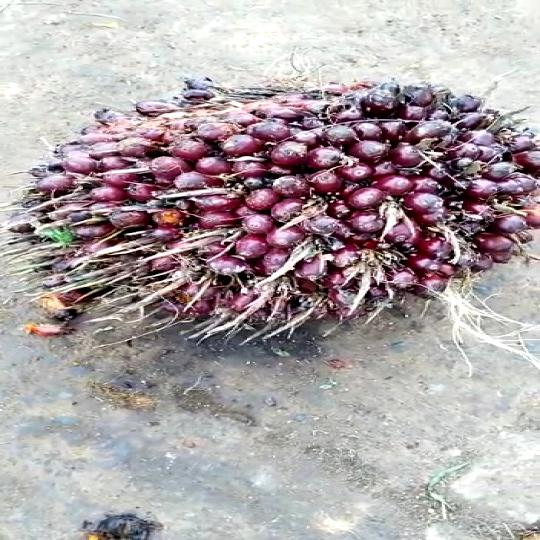kurang masak: (7, 71, 540, 371)
